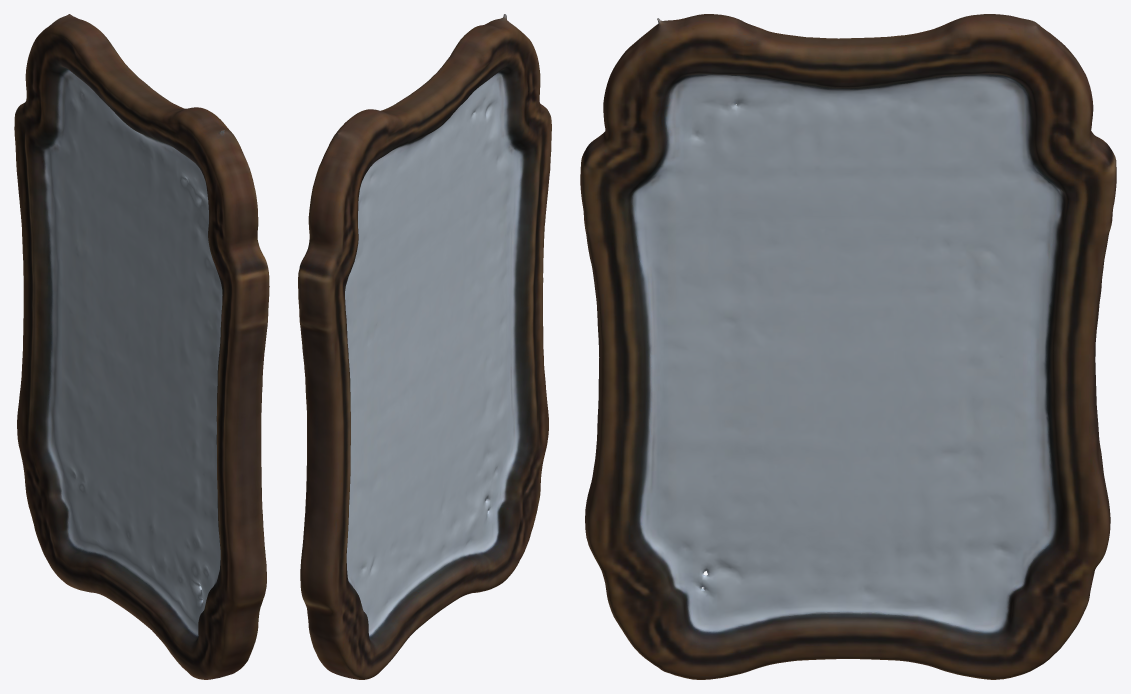
Rendered from b629a9338599_93989882cf51_mirror__3d_asset_0_.glb.
The picture shows the model from 3 angles, left to right: view 1: azimuth 30°, elevation 25°; view 2: azimuth 150°, elevation 25°; view 3: azimuth 270°, elevation 25°; orthographic projection. The views are drawn at different scales.
Visible parts, largest first — view 1: high_poly; view 2: high_poly; view 3: high_poly.
Part boxes in pixels (bbox=[...]): high_poly: bbox=[14, 14, 269, 679]; high_poly: bbox=[298, 14, 551, 679]; high_poly: bbox=[580, 14, 1116, 679].
Bounding box in the file's own units: 0.0648 × 1 × 0.7384.
Materials: 1 (1 with a texture image).
